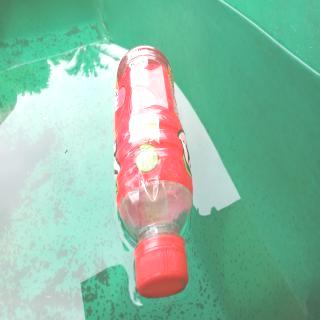bottle: (112, 45, 194, 299)
